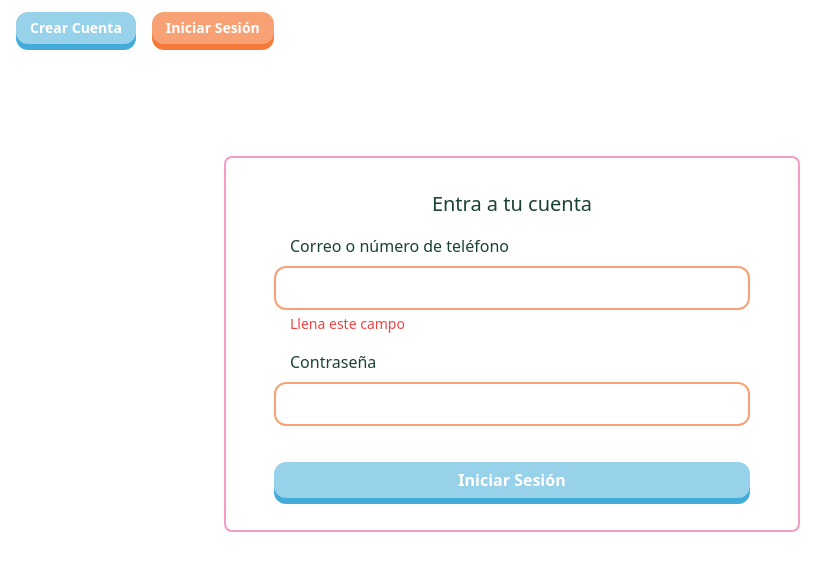
Validación de campos › Los campos son requeridos › El password es requerido
This screenshot has width=817, height=573.
Focus the password field labelled "Contraseña" at (512, 404), box [274,382,750,426]
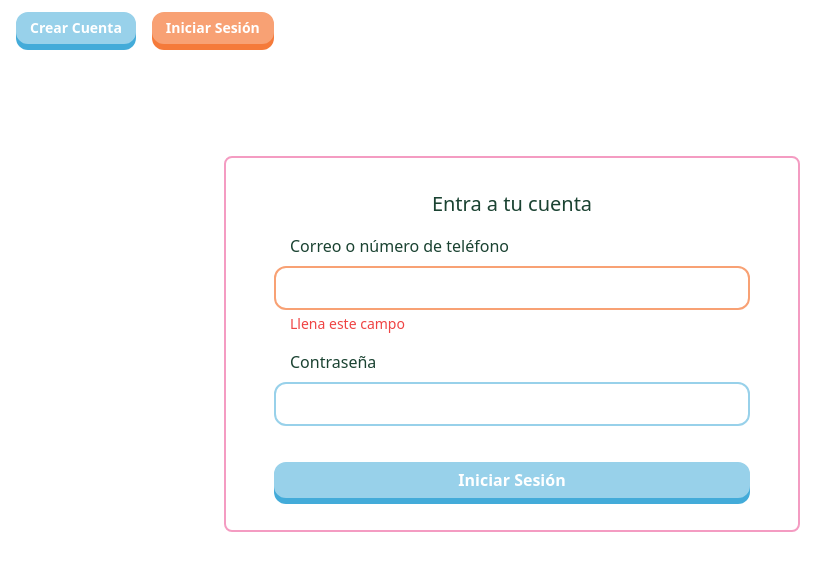
Leave the password field labelled "Contraseña", box [274,382,750,426]
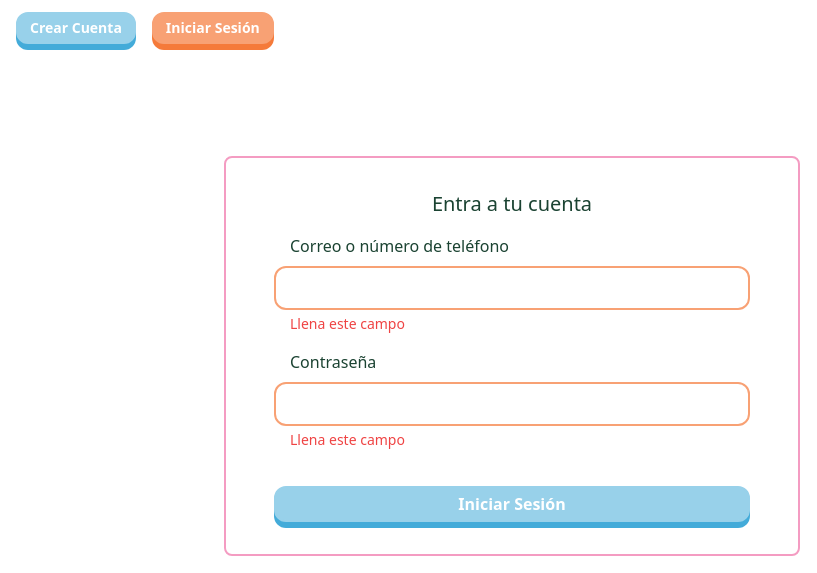
Expected: the text "Llena este campo" below "Contraseña" is shown, [290,430,405,449]
